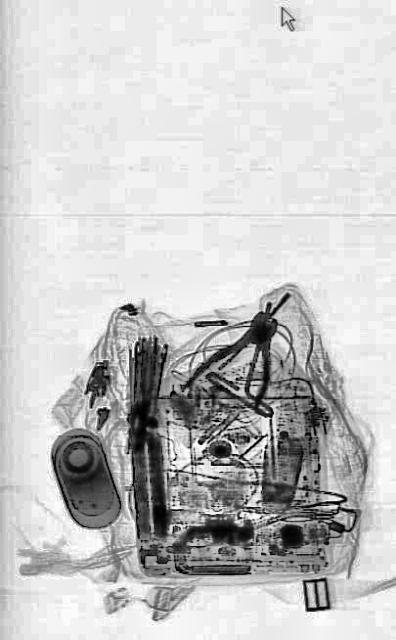Pliers: (178, 274, 292, 452)
